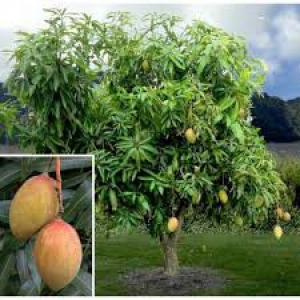Tree: (12, 5, 295, 275)
